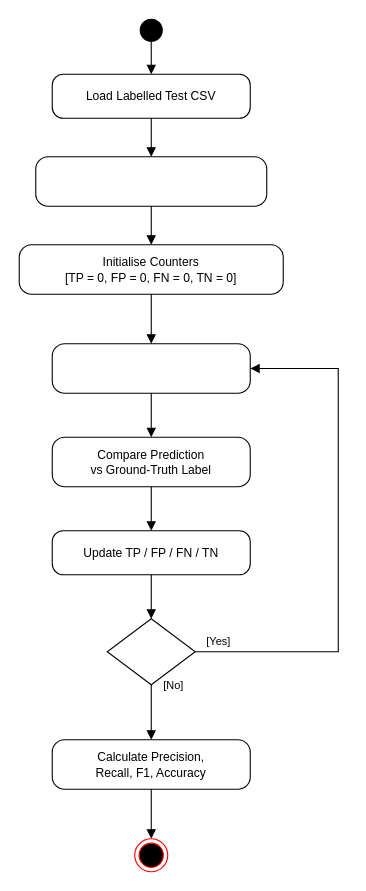
The diagram is 366 pixels wide and 891 high, and some of its shapes have lost their labels. The box of each missing label's shape, as (x1, y1, x2, y2) in pixels:
Classify Next Sample [engine.analyse(sample)]: (51, 343, 250, 393)
Import Brain JSON [load trained engine state]: (35, 156, 267, 206)
More Samples?: (106, 618, 195, 685)
